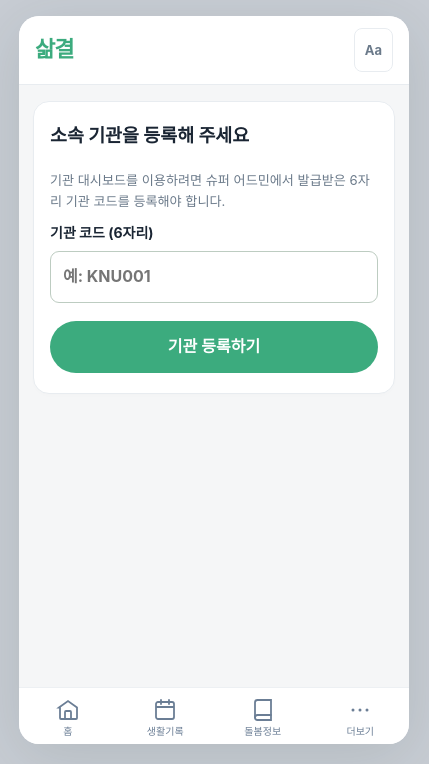
Test case: 6자리 기관 코드 폼을 제출하면 기관을 등록하고 대시보드를 갱신한다
This screenshot has width=429, height=764.
Expected: the heading "소속 기관을 등록해 주세요" is shown, [50, 124, 249, 146]
Type "knu001" into the field labelled "기관 코드 (6자리)".
click(214, 277); type("knu001")  # box [50, 251, 378, 303]
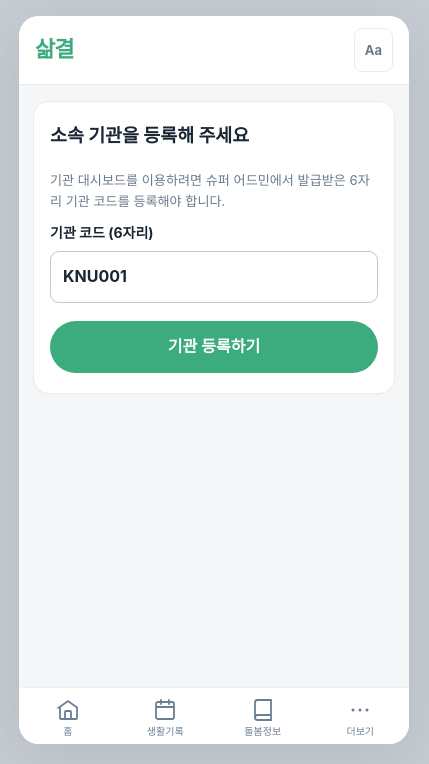
Click the button "기관 등록하기".
click(214, 347)  # box [50, 321, 378, 373]
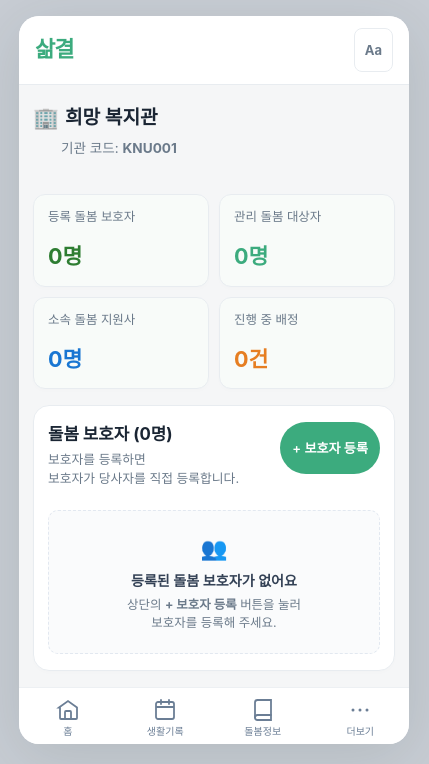
Expected: the heading "희망 복지관" is shown, [65, 103, 158, 132]
Expected: the text "기관 코드: KNU001" is shown, [61, 140, 177, 156]
